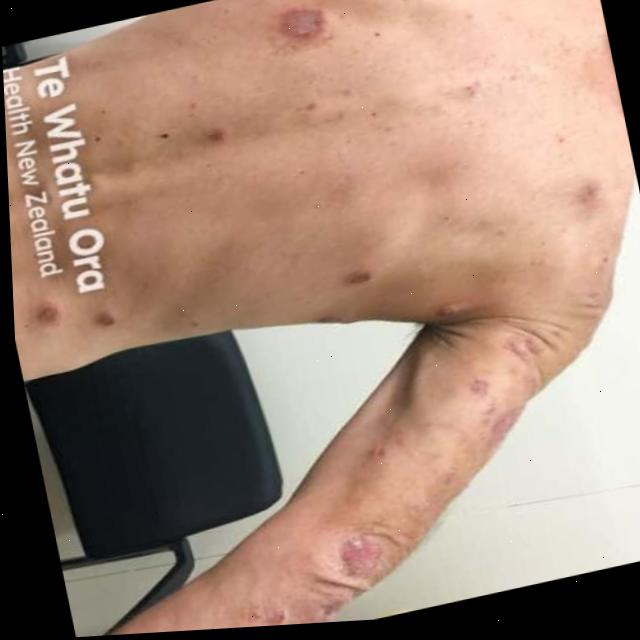Eczema: (292, 316, 578, 585), (29, 284, 124, 360), (257, 0, 346, 60), (558, 165, 599, 215)
